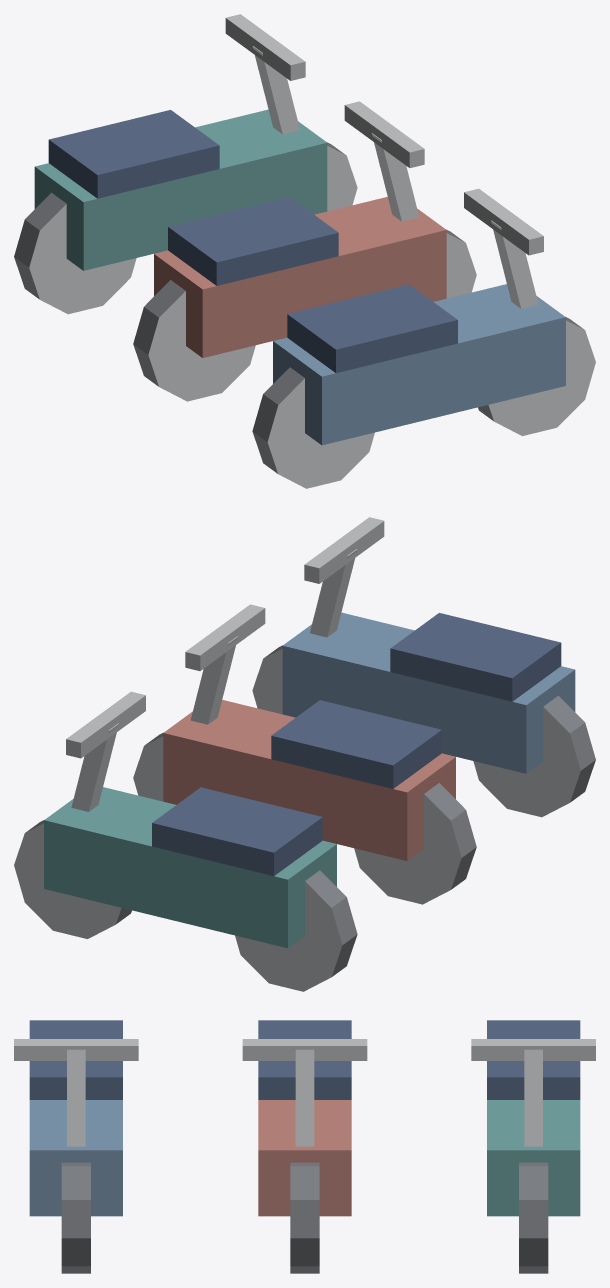
Rendered from 17_street_props-10.glb.
3 renders of one model, top to bottom at view 1: azimuth 30°, elevation 25°; view 2: azimuth 150°, elevation 25°; view 3: azimuth 270°, elevation 25°, orthographic. The views are drawn at different scales.
Bounding box in the file's own units: 1.75 × 1.12 × 2.8.
